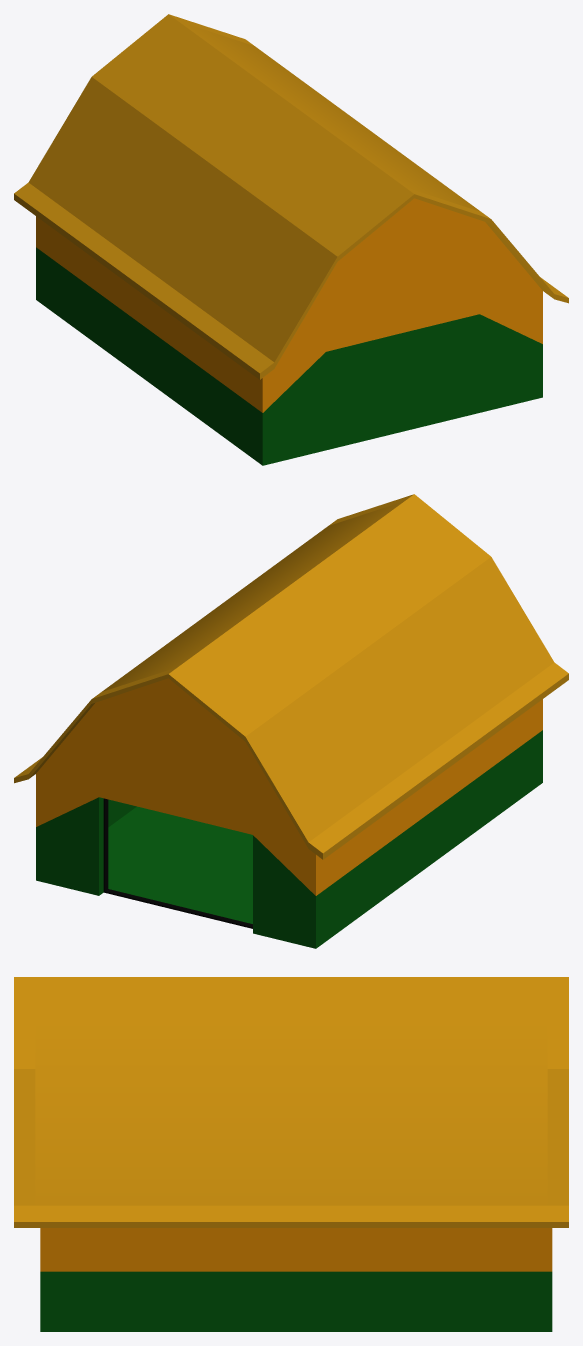
Rendered from Cabin v2.FBX.
3 renders of one model, top to bottom at view 1: azimuth 30°, elevation 25°; view 2: azimuth 150°, elevation 25°; view 3: azimuth 270°, elevation 25°, orthographic. The views are drawn at different scales.
Parts seen in each view (by area): view 1: Box001; view 2: Box001; view 3: Box001.
Boxes of the visible parts, left/top/right/bottom form: Box001: left=14, top=14, right=568, bottom=465; Box001: left=14, top=494, right=568, bottom=948; Box001: left=14, top=977, right=568, bottom=1331.
Size of the model in its own units: 584 by 444 by 805.
